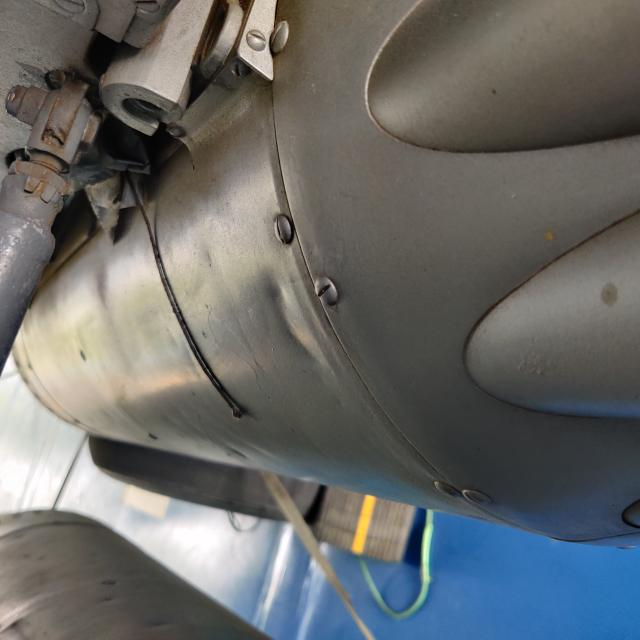dent: (260, 250, 374, 346)
